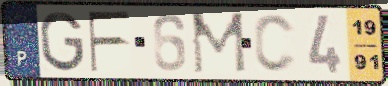4: (305, 12, 344, 77)
6: (151, 12, 189, 73)
C: (252, 12, 299, 75)
F: (85, 10, 133, 75)
G: (37, 9, 86, 73)
M: (189, 11, 248, 76)
